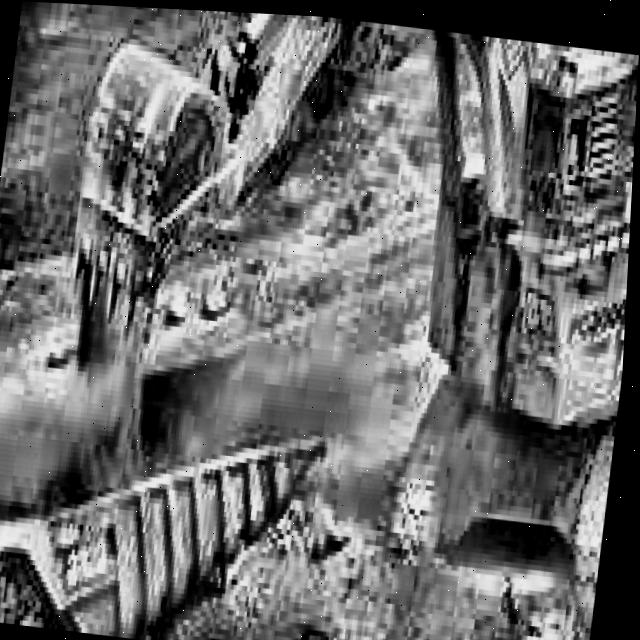dump_truck: (0, 327, 378, 640)
excavator: (40, 3, 640, 640)
